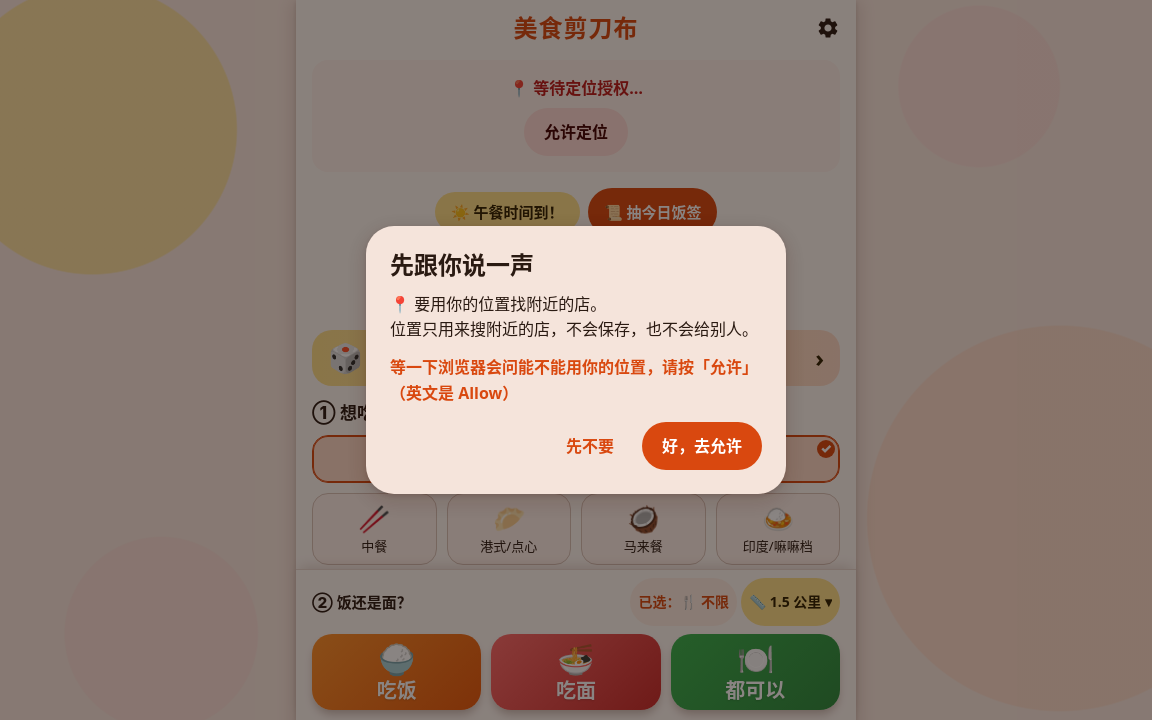
Test: 定位（功能清单第四节、31.4，测试 WEB-16） › LOCATION-04 按「先不要」：首页卡片「没有定位权限」+「允许定位」，之后还可以再问
The width and height of the screenshot is (1152, 720).
What coordinates should you click on to do the following:
click the button "先不要"
I would click on:
 (590, 446)
Its box is [546,422,634,470].
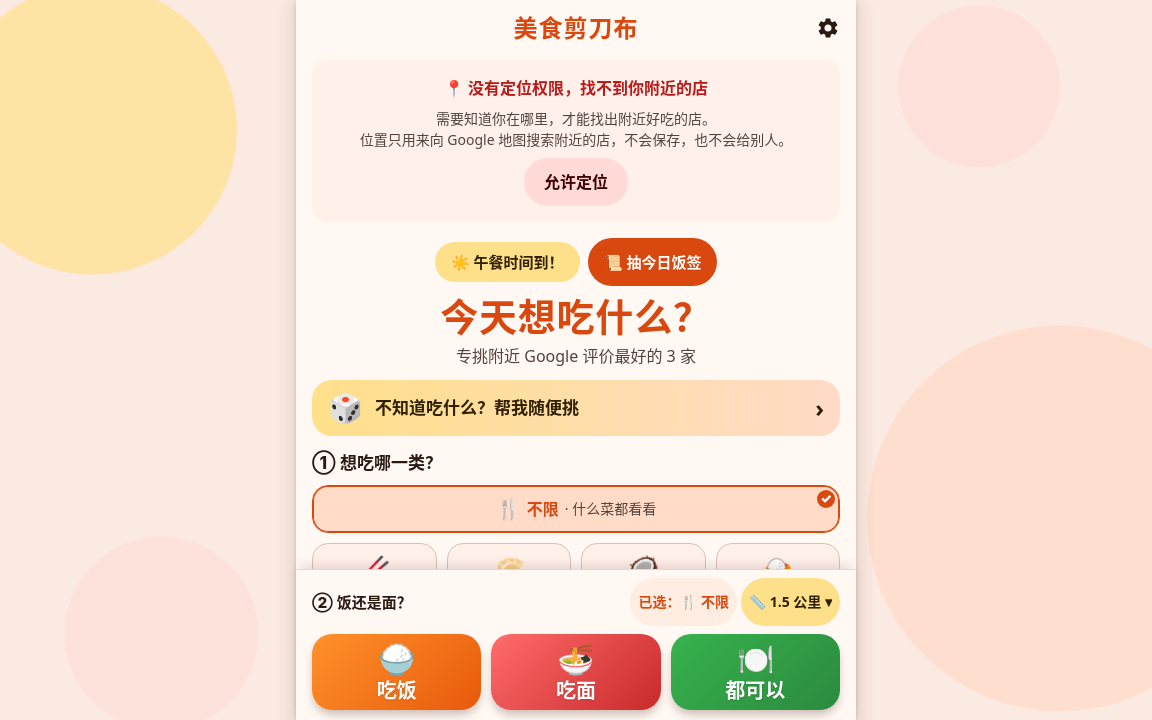
What coordinates should you click on to do the following:
click the button "允许定位"
I would click on:
 (576, 182)
Its box is [524,158,628,206].
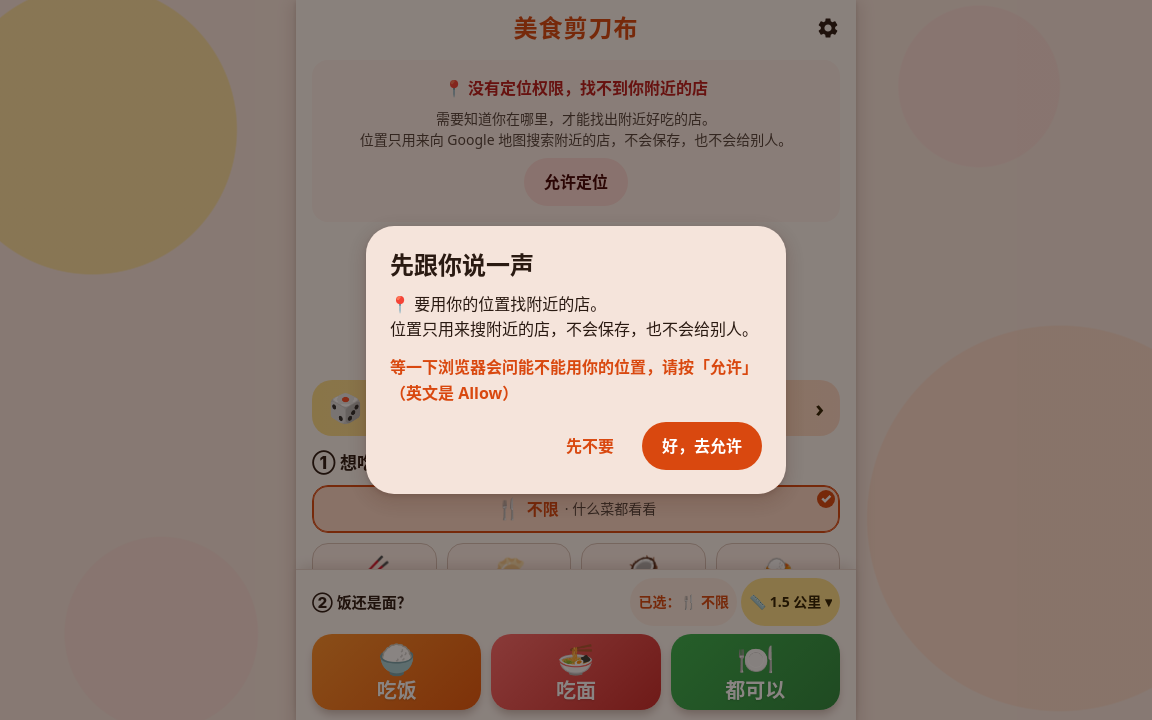
Now the dialog "先跟你说一声" is shown, box [366,226,786,494]
